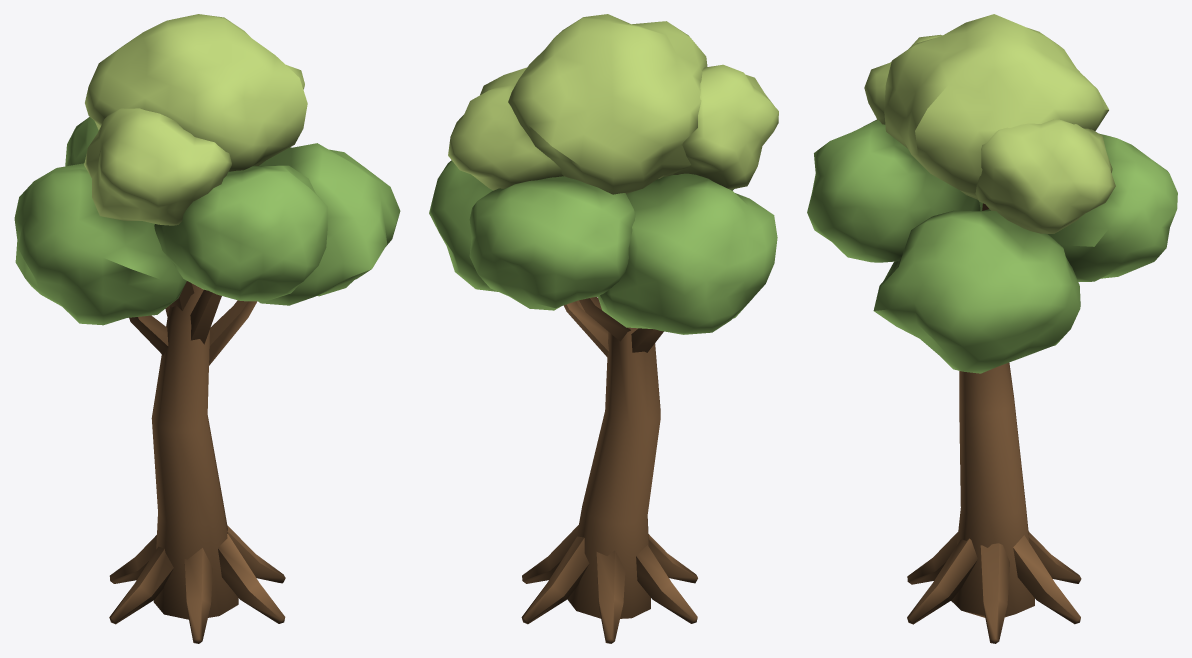
File: EDV2_Broadleaf.fbx
3 renders of one model, left to right at view 1: azimuth 30°, elevation 25°; view 2: azimuth 150°, elevation 25°; view 3: azimuth 270°, elevation 25°, orthographic.
Parts seen in each view (by area): view 1: Canopy.001, Trunk.001; view 2: Canopy.001, Trunk.001; view 3: Canopy.001, Trunk.001.
Part boxes in pixels (x1=…): Canopy.001: x1=14, y1=14, x2=400, y2=325; Trunk.001: x1=109, y1=281, x2=285, y2=643; Canopy.001: x1=429, y1=14, x2=778, y2=334; Trunk.001: x1=521, y1=297, x2=697, y2=643; Canopy.001: x1=807, y1=14, x2=1177, y2=373; Trunk.001: x1=907, y1=203, x2=1081, y2=643.
Bounding box in the file's own units: 1.18 × 1.96 × 1.11.
